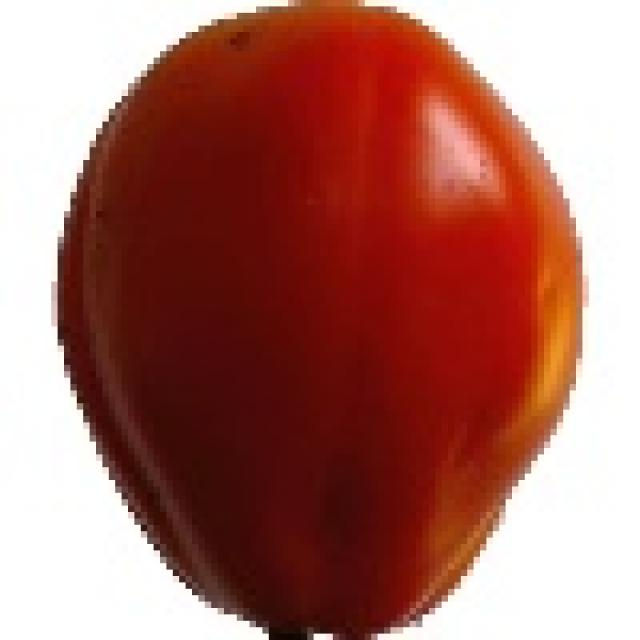tomato: (49, 0, 582, 640)
